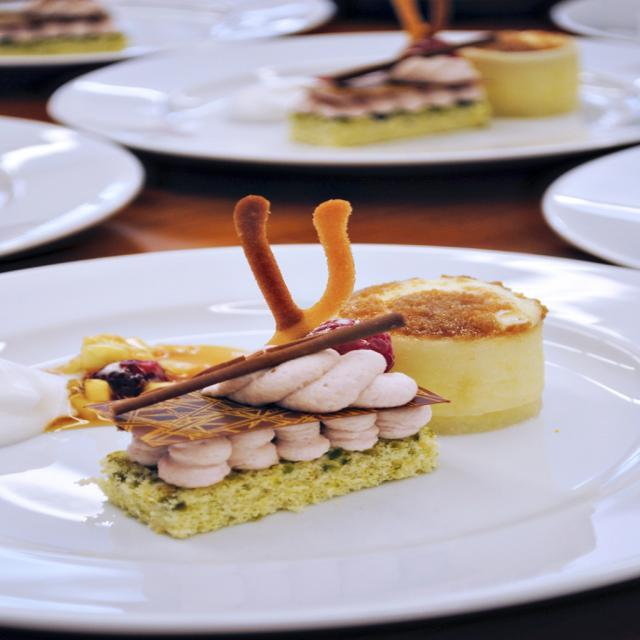ceramic plate: (12, 215, 640, 640)
